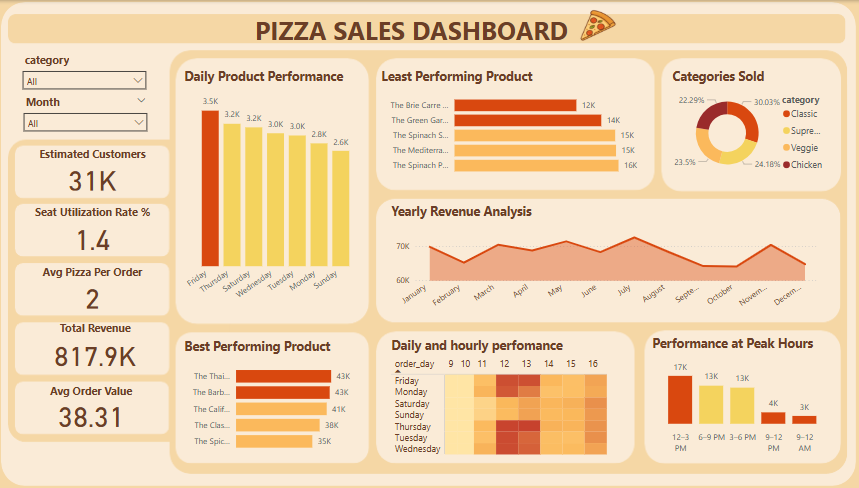

What the dashboard file says about the page in this screenshot:
{"tool":"powerbi","page":{"name":"Page 3","canvas":[1280,730],"ordinal":0},"visuals":[{"type":"areaChart","title":"Yearly Revenue Analysis","fields":{"Category":["order_details_enriched.date.Variation.Date Hierarchy.Month"],"Y":["order_details_enriched.Total Revenue"]},"box":[579.5,303.9,646.6,166.9],"z":0},{"type":"pivotTable","title":"Daily and hourly perfomance","fields":{"Rows":["order_details_enriched.order_day"],"Columns":["order_details_enriched.order_hour"],"Values":["Count(order_details_enriched.order_id)"]},"box":[579.5,503.6,351.6,187.7],"z":1000},{"type":"clusteredColumnChart","title":"Daily Product Performance","fields":{"Category":["order_details_enriched.order_day"],"Y":["Count(order_details_enriched.order_id)"]},"box":[270.9,102.2,269.3,365.3],"z":2000},{"type":"clusteredBarChart","title":"Least Performing Product","fields":{"Category":["order_details_enriched.name"],"Y":["order_details_enriched.Total Revenue"]},"box":[564.9,102.2,404,168.7],"z":3000},{"type":"clusteredBarChart","title":"Best Performing  Product","fields":{"Category":["order_details_enriched.name"],"Y":["order_details_enriched.Total Revenue"]},"box":[271.1,505,274.1,178.8],"z":4000},{"type":"donutChart","title":"Categories Sold","fields":{"Category":["order_details_enriched.category"],"Y":["Sum(order_details_enriched.quantity)"]},"box":[998.3,102.2,244.5,168.7],"z":5000},{"type":"clusteredColumnChart","title":"Performance at Peak Hours","fields":{"Y":["Sum(order_details_enriched.quantity)"],"Category":["order_details_enriched.Hour Block"]},"box":[968.4,500.6,274.1,183.2],"z":6000},{"type":"card","title":"Avg Order Value","fields":{"Values":["order_details_enriched.Avg Order Value"]},"box":[31.3,573.6,211.6,68.5],"z":7000},{"type":"card","title":"Total Revenue","fields":{"Values":["order_details_enriched.Total Revenue"]},"box":[37.1,479.8,212,75.8],"z":8000},{"type":"card","title":"Avg Pizza Per Order","fields":{"Values":["order_details_enriched.Avg Pizzas per Order"]},"box":[37.2,396.3,204.1,70],"z":9000},{"type":"card","title":"Seat Utilization Rate  %","fields":{"Values":["order_details_enriched.Seating Utilization Rate (%)"]},"box":[37.2,306.9,204.1,73],"z":10000},{"type":"card","title":" Estimated Customers","fields":{"Values":["order_details_enriched.Total Estimated Customers"]},"box":[37.2,220.5,204.1,70],"z":11000},{"type":"textbox","box":[241,16.2,746.4,70.5],"z":12000},{"type":"slicer","fields":{"Values":["order_details_enriched.category"]},"box":[24.8,74.3,204.3,63.5],"z":13000},{"type":"slicer","fields":{"Values":["order_details_enriched.order_date.Variation.Date Hierarchy.Month"]},"box":[26.3,137.8,204.3,68.1],"z":14000},{"type":"image","box":[852.8,4.6,78.9,69.6],"z":15000}]}

Visuals, with their boxes in screenshot pixels (x1, y1, x2, y2), scaled from the page's 1280x730 canvas onto the 859x488 screenshot:
"Yearly Revenue Analysis" areaChart: 389 203 823 315
"Daily and hourly perfomance" pivotTable: 389 337 625 462
"Daily Product Performance" clusteredColumnChart: 182 68 363 313
"Least Performing Product" clusteredBarChart: 379 68 650 181
"Best Performing  Product" clusteredBarChart: 182 338 366 457
"Categories Sold" donutChart: 670 68 834 181
"Performance at Peak Hours" clusteredColumnChart: 650 335 834 457
"Avg Order Value" card: 21 383 163 429
"Total Revenue" card: 25 321 167 371
"Avg Pizza Per Order" card: 25 265 162 312
"Seat Utilization Rate  %" card: 25 205 162 254
" Estimated Customers" card: 25 147 162 194
textbox: 162 11 663 58
slicer - order_details_enriched.category: 17 50 154 92
slicer - order_details_enriched.order_date.Variation.Date Hierarchy.Month: 18 92 155 138
image: 572 3 625 50
